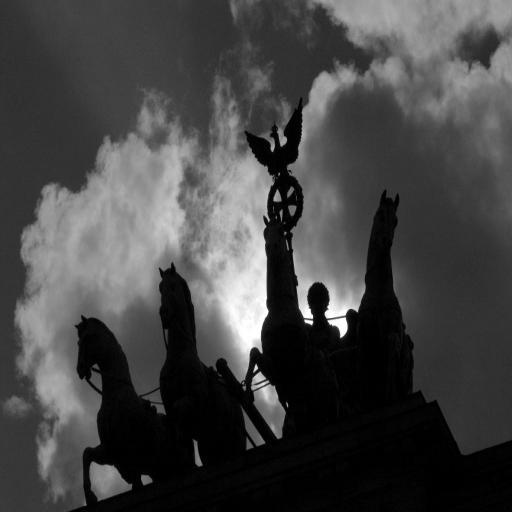horse: (75, 312, 197, 508), (240, 206, 324, 444), (158, 260, 248, 462), (351, 188, 409, 390)
